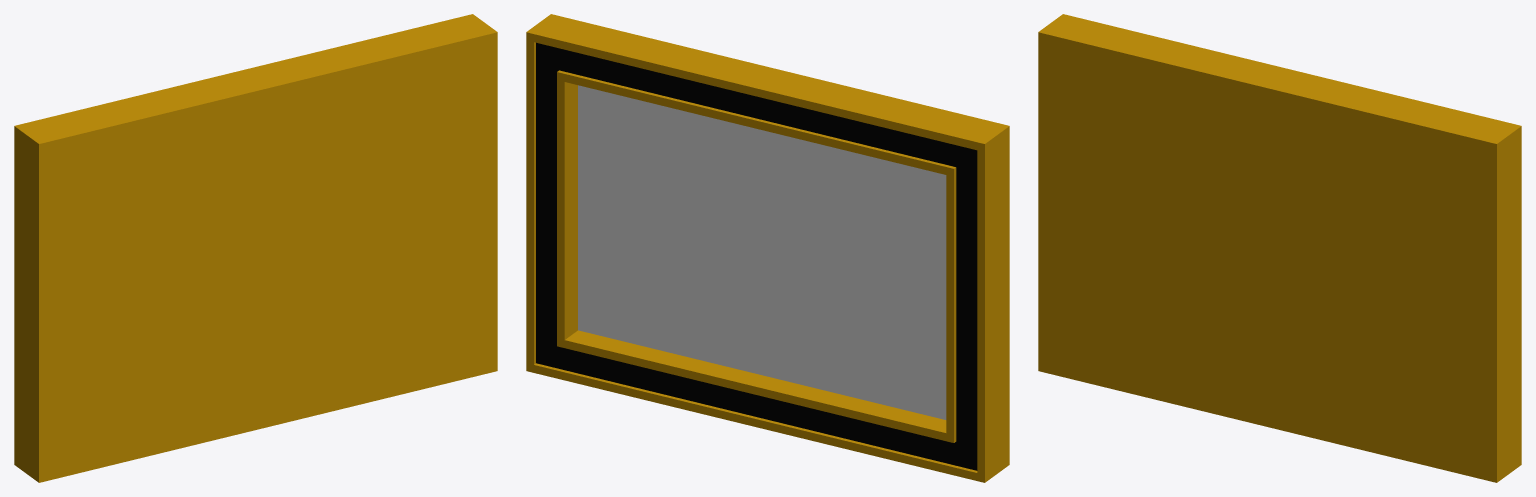
File: Painting-frame.fbx
3 renders of one model, left to right at view 1: azimuth 30°, elevation 25°; view 2: azimuth 150°, elevation 25°; view 3: azimuth 330°, elevation 25°, orthographic.
Visible parts, largest first — view 1: Painting_frame; view 2: Painting_frame; view 3: Painting_frame.
Boxes of the visible parts, x1,y1,x2,y2 form: Painting_frame: [14, 14, 497, 482]; Painting_frame: [526, 14, 1009, 482]; Painting_frame: [1038, 14, 1521, 482].
Size of the model in its own units: 1.19 by 0.84 by 0.112.
